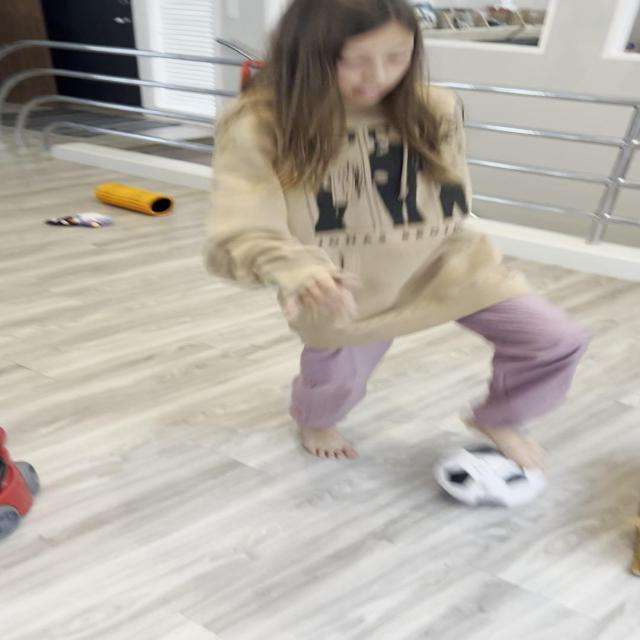Soccer Ball: (432, 444, 550, 506)
